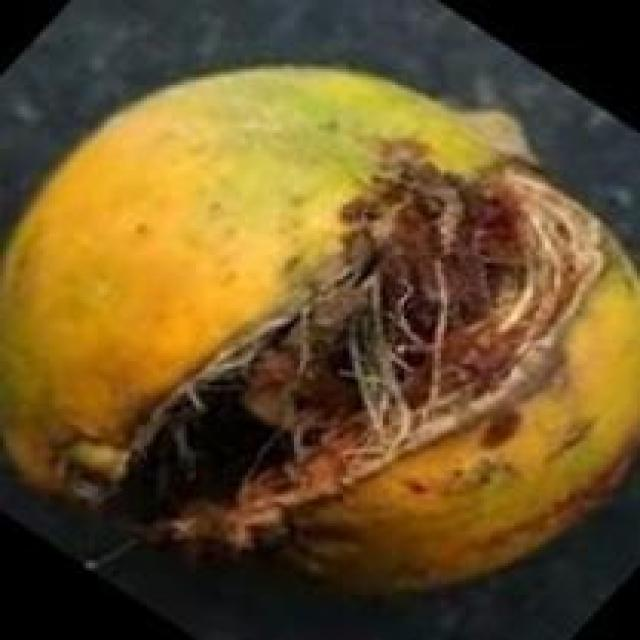damaged: (0, 61, 637, 611)
